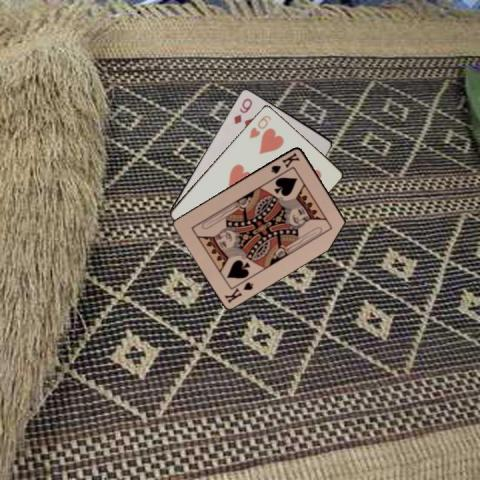6h: (246, 112, 273, 139)
9d: (231, 95, 253, 125)
Ks: (268, 149, 301, 175), (222, 279, 255, 304)
